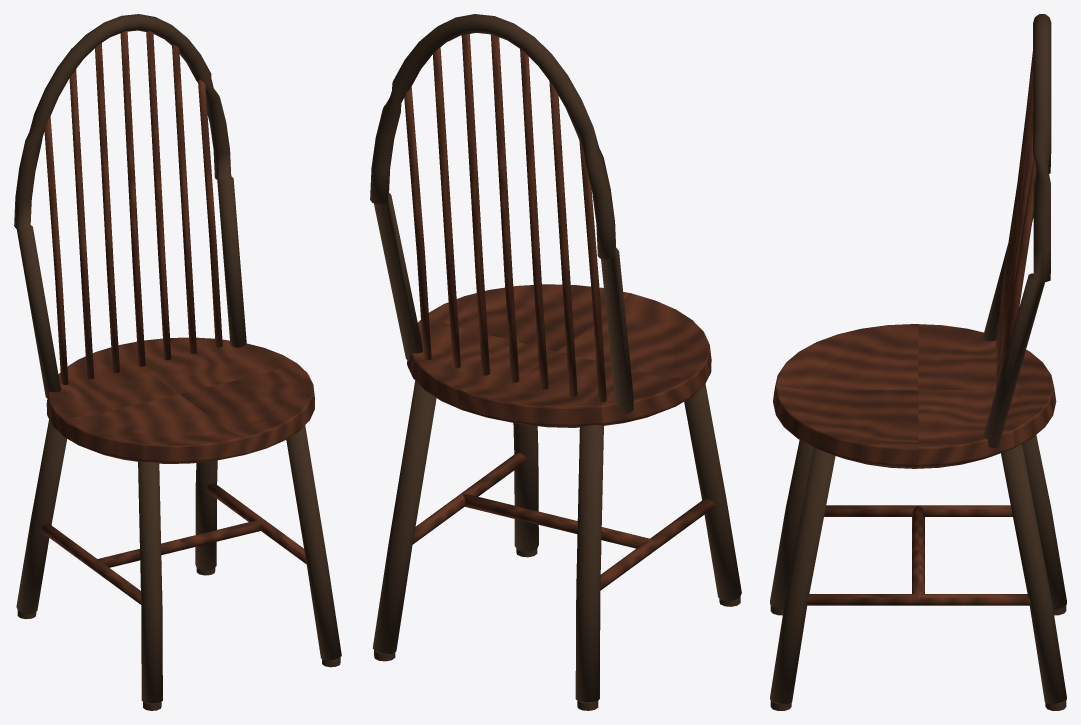
The model's file is chair.glb.
3 renders of one model, left to right at view 1: azimuth 30°, elevation 25°; view 2: azimuth 150°, elevation 25°; view 3: azimuth 270°, elevation 25°, orthographic. The views are drawn at different scales.
Parts seen in each view (by area): view 1: Furniture_Windsor_DishedSeat.001, Furniture_Windsor_BentBow.001, Furniture_Windsor_SplayedLeg_00.001, Furniture_Windsor_SplayedLeg_01.001, Furniture_Windsor_SplayedLeg_02.001, Furniture_Windsor_Spindle_03.001, Furniture_Windsor_Spindle_04.001, Furniture_Windsor_Spindle_02.001, Furniture_Windsor_Spindle_05.001, Furniture_Windsor_Spindle_01.001, Furniture_Windsor_Spindle_06.001, Furniture_Windsor_Spindle_00.001 (+4 smaller); view 2: Furniture_Windsor_DishedSeat.001, Furniture_Windsor_BentBow.001, Furniture_Windsor_SplayedLeg_02.001, Furniture_Windsor_SplayedLeg_03.001, Furniture_Windsor_SplayedLeg_00.001, Furniture_Windsor_Spindle_03.001, Furniture_Windsor_Spindle_04.001, Furniture_Windsor_Spindle_02.001, Furniture_Windsor_Spindle_05.001, Furniture_Windsor_Spindle_01.001, Furniture_Windsor_SplayedLeg_01.001, Furniture_Windsor_Spindle_06.001 (+4 smaller); view 3: Furniture_Windsor_DishedSeat.001, Furniture_Windsor_BentBow.001, Furniture_Windsor_SplayedLeg_03.001, Furniture_Windsor_SplayedLeg_01.001, Furniture_Windsor_SplayedLeg_02.001, Furniture_Windsor_SplayedLeg_00.001, Furniture_Windsor_SideStretcher_0.001, Furniture_Windsor_SideStretcher_-0.001, Furniture_Windsor_Spindle_06.001, Furniture_Windsor_CrossStretcher.001, Furniture_Windsor_Spindle_05.001, Furniture_Windsor_Spindle_04.001 (+2 smaller).
Boxes of the visible parts, x1=… form: Furniture_Windsor_DishedSeat.001: x1=46, y1=337, x2=314, y2=463; Furniture_Windsor_BentBow.001: x1=14, y1=14, x2=246, y2=398; Furniture_Windsor_SplayedLeg_00.001: x1=138, y1=461, x2=162, y2=703; Furniture_Windsor_SplayedLeg_01.001: x1=286, y1=425, x2=341, y2=660; Furniture_Windsor_SplayedLeg_02.001: x1=16, y1=419, x2=66, y2=614; Furniture_Windsor_Spindle_03.001: x1=120, y1=31, x2=145, y2=366; Furniture_Windsor_Spindle_04.001: x1=146, y1=31, x2=171, y2=360; Furniture_Windsor_Spindle_02.001: x1=95, y1=43, x2=119, y2=372; Furniture_Windsor_Spindle_05.001: x1=172, y1=45, x2=196, y2=353; Furniture_Windsor_Spindle_01.001: x1=69, y1=69, x2=93, y2=379; Furniture_Windsor_Spindle_06.001: x1=198, y1=79, x2=222, y2=347; Furniture_Windsor_Spindle_00.001: x1=44, y1=116, x2=68, y2=384; Furniture_Windsor_DishedSeat.001: x1=407, y1=284, x2=711, y2=427; Furniture_Windsor_BentBow.001: x1=370, y1=14, x2=633, y2=413; Furniture_Windsor_SplayedLeg_02.001: x1=575, y1=424, x2=603, y2=702; Furniture_Windsor_SplayedLeg_03.001: x1=372, y1=381, x2=436, y2=653; Furniture_Windsor_SplayedLeg_00.001: x1=684, y1=384, x2=741, y2=601; Furniture_Windsor_Spindle_03.001: x1=490, y1=34, x2=519, y2=382; Furniture_Windsor_Spindle_04.001: x1=461, y1=34, x2=489, y2=375; Furniture_Windsor_Spindle_02.001: x1=520, y1=49, x2=548, y2=389; Furniture_Windsor_Spindle_05.001: x1=432, y1=47, x2=460, y2=368; Furniture_Windsor_Spindle_01.001: x1=549, y1=81, x2=577, y2=396; Furniture_Windsor_SplayedLeg_01.001: x1=513, y1=423, x2=538, y2=551; Furniture_Windsor_Spindle_06.001: x1=404, y1=87, x2=431, y2=359; Furniture_Windsor_DishedSeat.001: x1=773, y1=324, x2=1056, y2=468; Furniture_Windsor_BentBow.001: x1=983, y1=14, x2=1051, y2=447; Furniture_Windsor_SplayedLeg_03.001: x1=1001, y1=444, x2=1066, y2=703; Furniture_Windsor_SplayedLeg_01.001: x1=770, y1=448, x2=835, y2=703; Furniture_Windsor_SplayedLeg_02.001: x1=1022, y1=435, x2=1066, y2=609; Furniture_Windsor_SplayedLeg_00.001: x1=770, y1=440, x2=813, y2=609; Furniture_Windsor_SideStretcher_0.001: x1=806, y1=594, x2=1030, y2=605; Furniture_Windsor_SideStretcher_-0.001: x1=824, y1=505, x2=1012, y2=516; Furniture_Windsor_Spindle_06.001: x1=1003, y1=157, x2=1035, y2=428; Furniture_Windsor_CrossStretcher.001: x1=912, y1=505, x2=924, y2=594; Furniture_Windsor_Spindle_05.001: x1=1001, y1=111, x2=1033, y2=370; Furniture_Windsor_Spindle_04.001: x1=998, y1=79, x2=1032, y2=380.
Size of the model in its own units: 0.4594 by 1.08 by 0.4559.
Materials: 2 (1 with a texture image).
